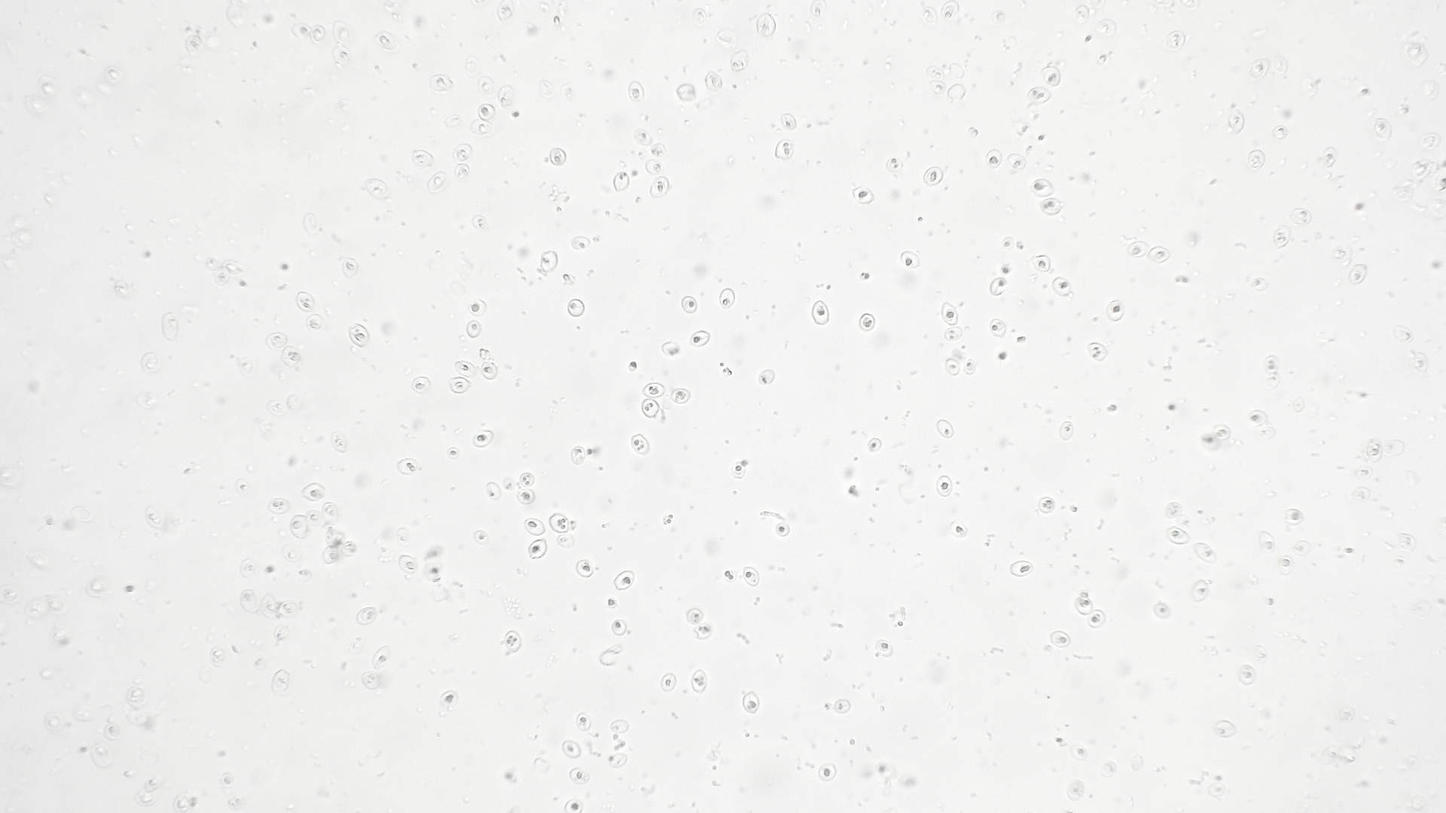yeast: (1161, 27, 1191, 56), (753, 11, 780, 41), (297, 480, 330, 503), (426, 73, 459, 96), (343, 321, 369, 349), (610, 565, 635, 593), (546, 511, 576, 534), (703, 69, 728, 96), (285, 513, 308, 542), (409, 147, 438, 170), (809, 300, 834, 326), (237, 587, 261, 614), (1028, 175, 1056, 198), (628, 434, 654, 458), (1104, 298, 1128, 324), (566, 443, 589, 470), (1047, 629, 1074, 652), (740, 690, 763, 717), (538, 249, 560, 277), (372, 30, 401, 51), (1372, 116, 1393, 145), (565, 298, 589, 323), (392, 456, 422, 476), (897, 250, 923, 273), (625, 79, 648, 105), (329, 429, 351, 456), (847, 185, 875, 206), (1164, 527, 1193, 547), (502, 627, 522, 656), (1235, 662, 1258, 687), (1193, 542, 1218, 565), (354, 604, 379, 627), (449, 142, 474, 165), (645, 176, 671, 198), (1005, 559, 1035, 578), (1027, 85, 1054, 106), (1286, 207, 1313, 228), (678, 294, 701, 318), (933, 418, 957, 441), (1245, 148, 1268, 172), (293, 289, 316, 313), (656, 671, 681, 693), (397, 552, 422, 574), (933, 472, 953, 499), (371, 643, 391, 670), (938, 300, 957, 328), (1030, 253, 1054, 275), (779, 111, 801, 135), (1246, 58, 1270, 80), (461, 318, 483, 342), (319, 501, 341, 525), (947, 518, 968, 543), (921, 166, 946, 187), (522, 516, 547, 537), (740, 565, 760, 591), (1037, 196, 1063, 216), (566, 766, 592, 786), (1272, 226, 1292, 252), (264, 496, 291, 515), (987, 276, 1010, 298), (773, 139, 795, 162), (560, 739, 584, 760), (470, 428, 494, 449), (264, 331, 288, 352), (407, 376, 432, 396), (1086, 342, 1112, 361), (451, 358, 477, 377), (1051, 276, 1073, 298), (631, 128, 653, 150), (1040, 65, 1062, 87), (715, 287, 736, 310), (1189, 579, 1210, 602), (426, 170, 447, 193), (688, 330, 712, 350), (988, 315, 1008, 339), (548, 145, 568, 169), (320, 544, 340, 568), (641, 381, 666, 400), (638, 400, 660, 421), (816, 761, 837, 783), (1347, 263, 1368, 285), (1283, 507, 1305, 528), (526, 538, 548, 559), (468, 297, 490, 318), (305, 509, 327, 530), (1002, 154, 1029, 171), (670, 387, 694, 406), (612, 170, 631, 194), (1148, 246, 1173, 264), (608, 718, 634, 735), (982, 147, 1002, 169), (574, 711, 594, 733), (359, 671, 379, 693), (340, 256, 359, 279), (569, 234, 593, 252), (691, 668, 707, 695), (1127, 241, 1151, 259), (288, 23, 312, 41), (1057, 419, 1074, 444), (560, 796, 585, 813), (772, 520, 793, 540), (944, 324, 965, 344), (1085, 609, 1105, 630), (1074, 596, 1094, 617), (478, 361, 499, 381), (573, 559, 595, 578), (684, 607, 706, 626), (438, 689, 460, 708), (239, 556, 255, 582), (1036, 493, 1054, 516), (923, 63, 946, 81), (829, 698, 853, 715), (857, 313, 877, 333), (873, 638, 893, 658), (1244, 409, 1269, 425), (476, 102, 496, 122), (1249, 276, 1270, 295), (757, 367, 779, 385), (451, 163, 473, 181), (310, 25, 328, 47), (606, 752, 629, 769), (1277, 555, 1294, 578), (643, 160, 669, 175), (927, 80, 947, 99), (470, 214, 490, 233), (448, 376, 469, 394), (1210, 423, 1232, 440), (468, 527, 490, 544), (555, 532, 578, 548), (514, 489, 537, 505), (1152, 601, 1170, 621), (1353, 466, 1374, 483), (484, 482, 502, 501), (306, 313, 324, 332), (1068, 744, 1088, 761), (997, 234, 1015, 252), (941, 358, 959, 376), (1261, 354, 1278, 373), (962, 355, 978, 374), (603, 596, 623, 611), (886, 157, 905, 172), (867, 436, 883, 453), (611, 618, 627, 635), (1271, 126, 1289, 141), (730, 461, 744, 480), (720, 568, 738, 582), (444, 446, 459, 461), (1094, 51, 1109, 65)
